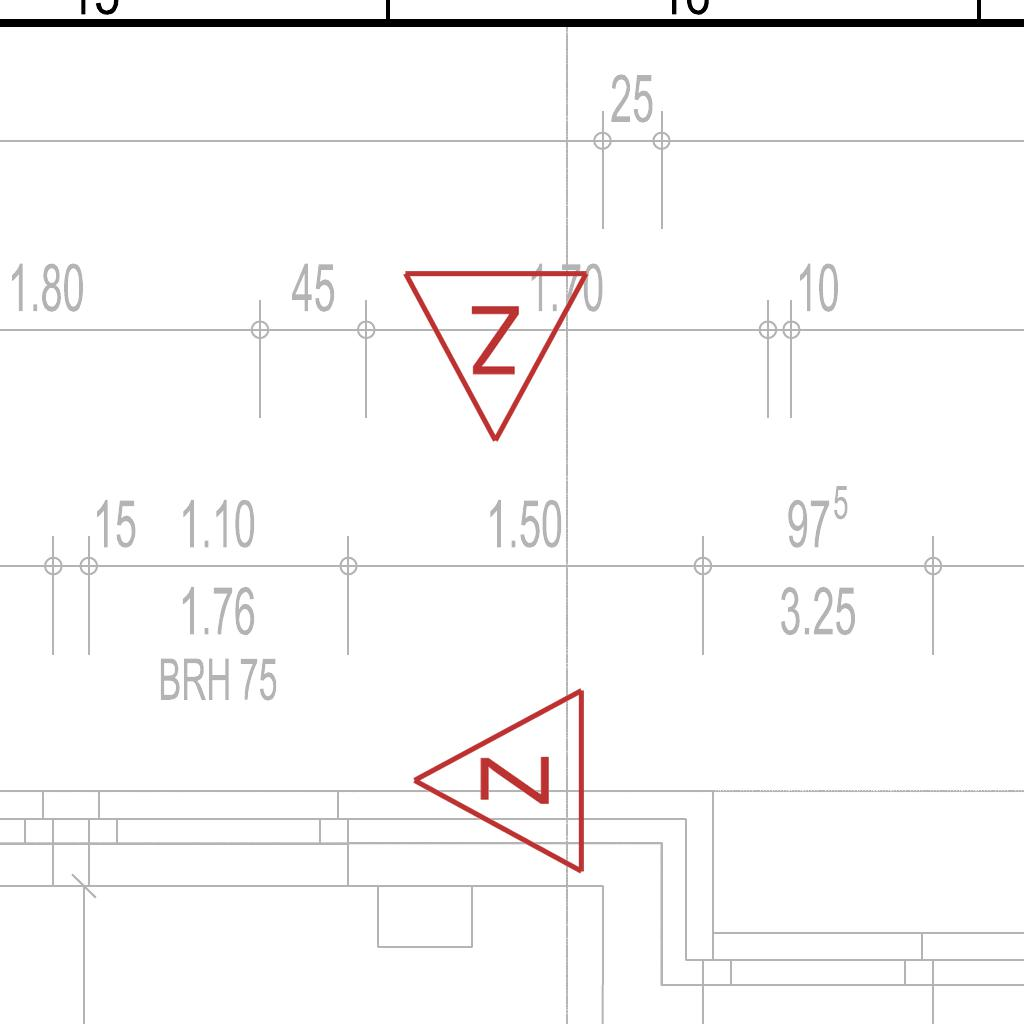Zimmersignalleuchte: (399, 685, 599, 881), (400, 256, 596, 456)
